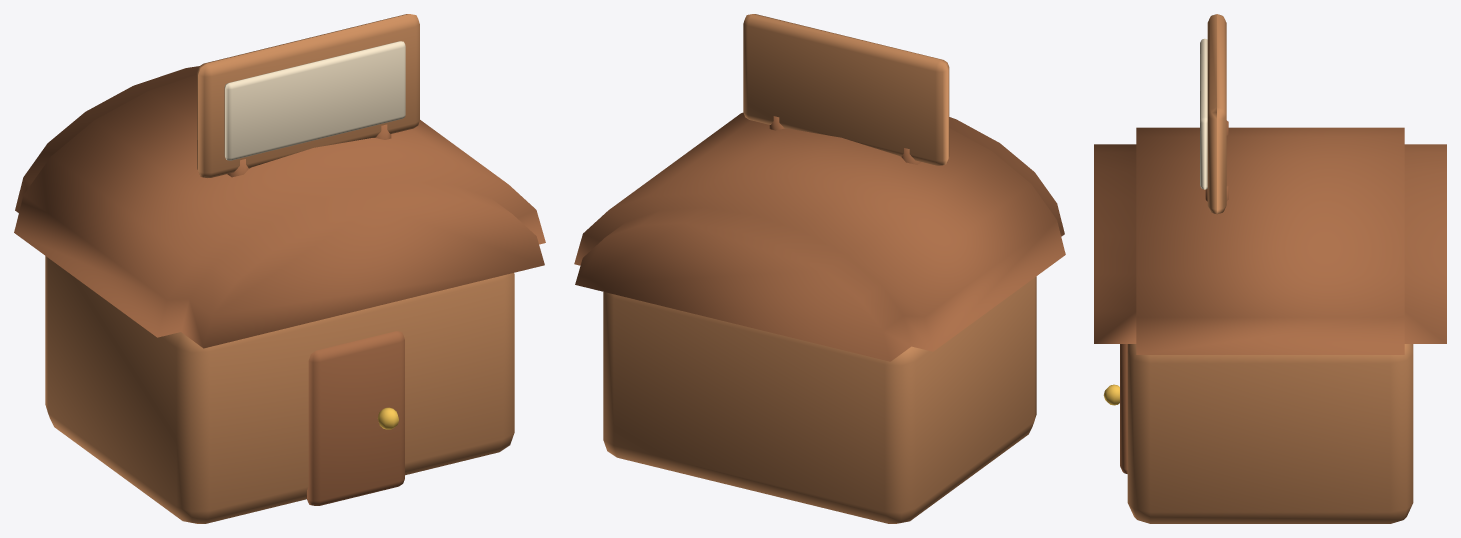
File: class_hut.glb
3 views of the same model, side by side, from view 1: azimuth 30°, elevation 25°; view 2: azimuth 150°, elevation 25°; view 3: azimuth 270°, elevation 25° (orthographic). The views are drawn at different scales.
Parts seen in each view (by area): view 1: class_hut; view 2: class_hut; view 3: class_hut.
Part boxes in pixels (<box>): class_hut: <box>14,14,545,523</box>; class_hut: <box>574,14,1065,523</box>; class_hut: <box>1094,14,1446,523</box>.
Size of the model in its own units: 2.2 by 2.29 by 1.85.
